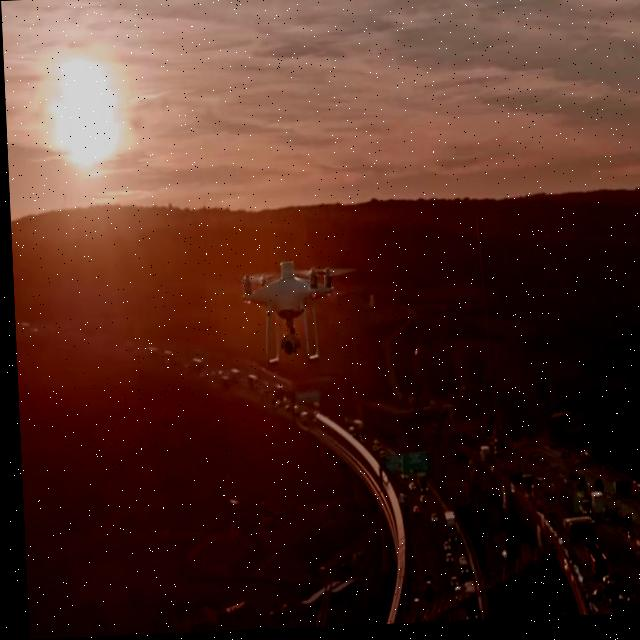drone: (230, 256, 360, 368)
